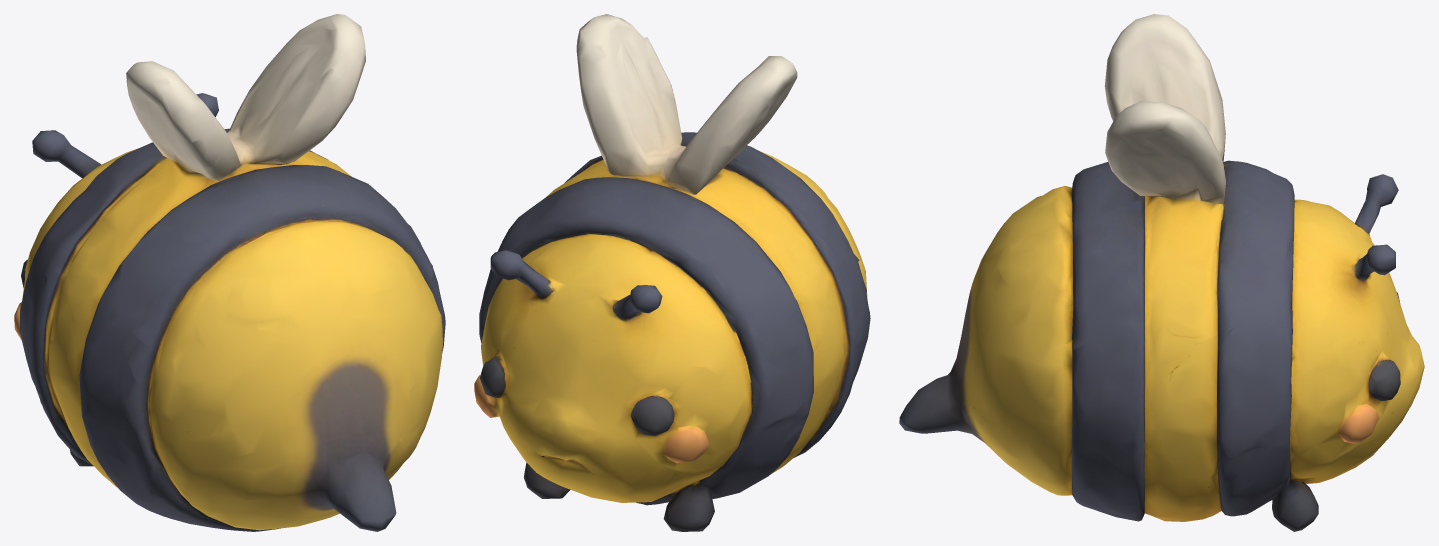
Rendered from bee_mini.glb.
3 renders of one model, left to right at view 1: azimuth 30°, elevation 25°; view 2: azimuth 150°, elevation 25°; view 3: azimuth 270°, elevation 25°, orthographic. The views are drawn at different scales.
Visible parts, largest first — view 1: tripo_node_0eb70fd8-d691-41b5-b7e7-4bf8618b7e4a; view 2: tripo_node_0eb70fd8-d691-41b5-b7e7-4bf8618b7e4a; view 3: tripo_node_0eb70fd8-d691-41b5-b7e7-4bf8618b7e4a.
Part boxes in pixels (bbox=[...]): tripo_node_0eb70fd8-d691-41b5-b7e7-4bf8618b7e4a: bbox=[14, 14, 445, 531]; tripo_node_0eb70fd8-d691-41b5-b7e7-4bf8618b7e4a: bbox=[474, 14, 870, 531]; tripo_node_0eb70fd8-d691-41b5-b7e7-4bf8618b7e4a: bbox=[899, 14, 1424, 531].
Size of the model in its own units: 0.7196 by 0.9256 by 1.
Materials: 1 (1 with a texture image).
